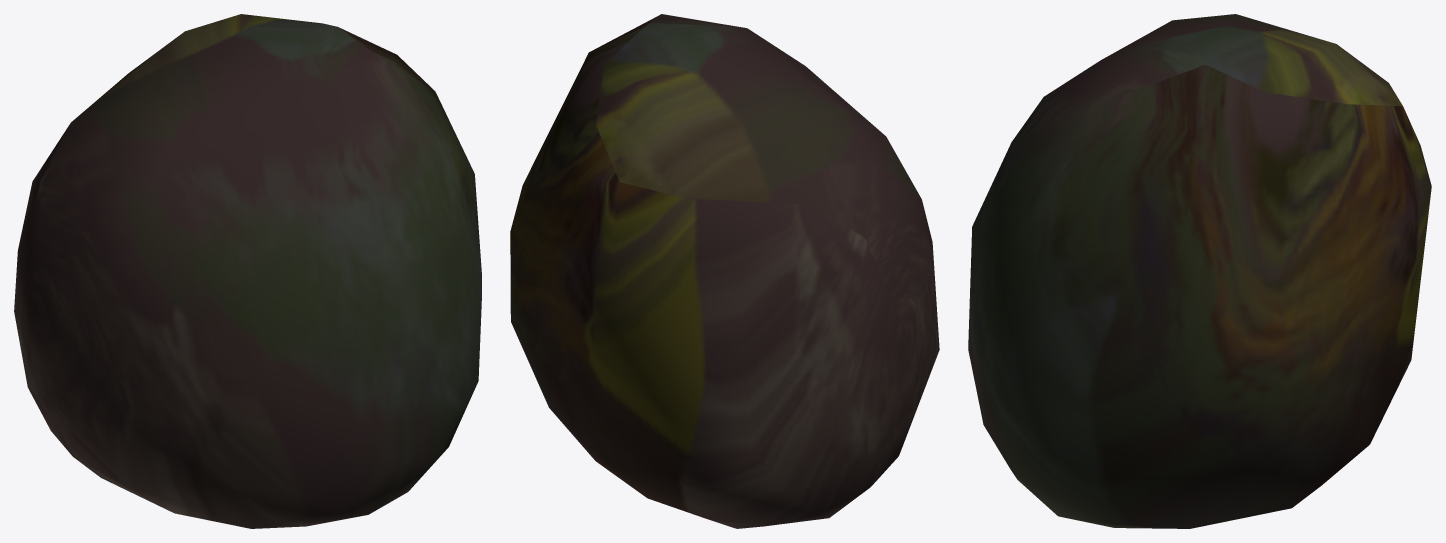
The model's file is rock_small_01.fbx.
3 renders of one model, left to right at view 1: azimuth 30°, elevation 25°; view 2: azimuth 150°, elevation 25°; view 3: azimuth 270°, elevation 25°, orthographic. The views are drawn at different scales.
Parts seen in each view (by area): view 1: Mesh; view 2: Mesh; view 3: Mesh.
Boxes of the visible parts, bbox=[...] form: Mesh: bbox=[14, 14, 481, 528]; Mesh: bbox=[510, 14, 939, 528]; Mesh: bbox=[968, 14, 1431, 528].
Size of the model in its own units: 16.78 by 17.1 by 15.36.
